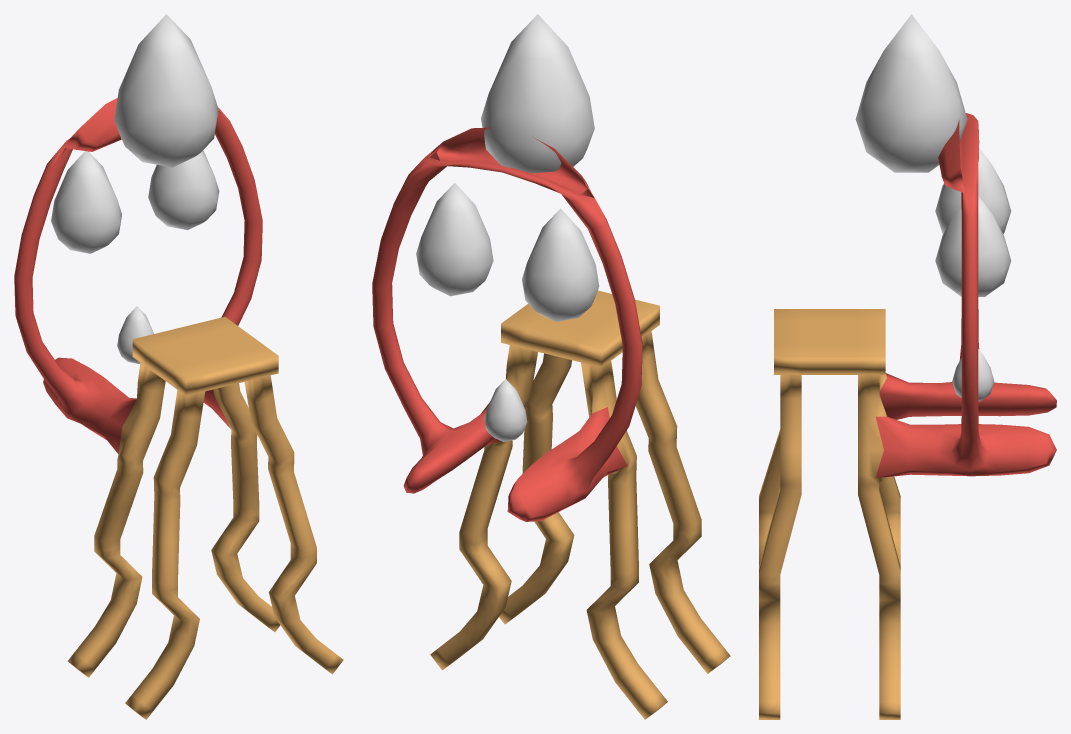
Rendered from infernoStand.fbx.
3 views of the same model, side by side, from view 1: azimuth 30°, elevation 25°; view 2: azimuth 150°, elevation 25°; view 3: azimuth 270°, elevation 25° (orthographic). The views are drawn at different scales.
Visible parts, largest first — view 1: Cube, red, yellow1, yellow2, orange; view 2: Cube, red, yellow2, yellow1, orange; view 3: Cube, red, yellow2, yellow1, orange.
Part boxes in pixels (x1=…): Cube: x1=14, y1=98, x2=343, y2=719; red: x1=114, y1=14, x2=218, y2=167; yellow1: x1=51, y1=151, x2=121, y2=253; yellow2: x1=148, y1=150, x2=219, y2=229; orange: x1=117, y1=306, x2=153, y2=363; Cube: x1=372, y1=127, x2=730, y2=719; red: x1=481, y1=14, x2=594, y2=173; yellow2: x1=416, y1=183, x2=493, y2=296; yellow1: x1=522, y1=208, x2=599, y2=321; orange: x1=484, y1=379, x2=527, y2=441; Cube: x1=759, y1=113, x2=1056, y2=719; red: x1=855, y1=14, x2=967, y2=172; yellow2: x1=935, y1=196, x2=1011, y2=296; yellow1: x1=935, y1=147, x2=1011, y2=233; orange: x1=952, y1=349, x2=994, y2=401.
Bounding box in the file's own units: 534 × 1299 × 533.
